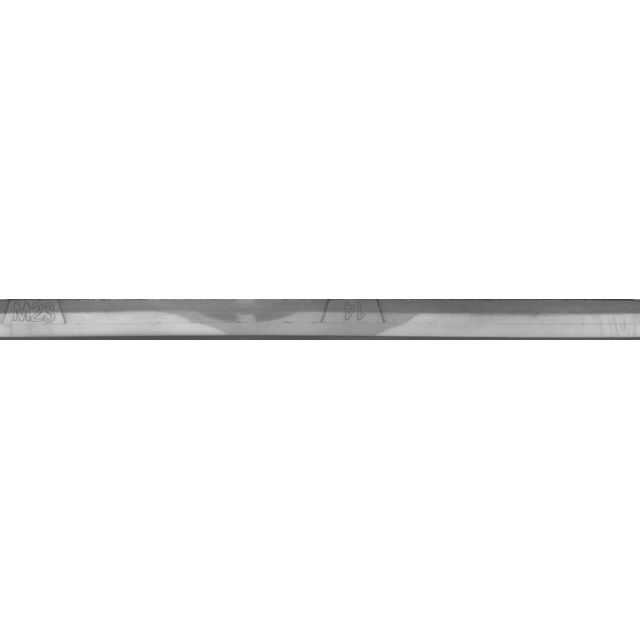mohao: (0, 270, 133, 370)
xuehao: (256, 270, 456, 370)
